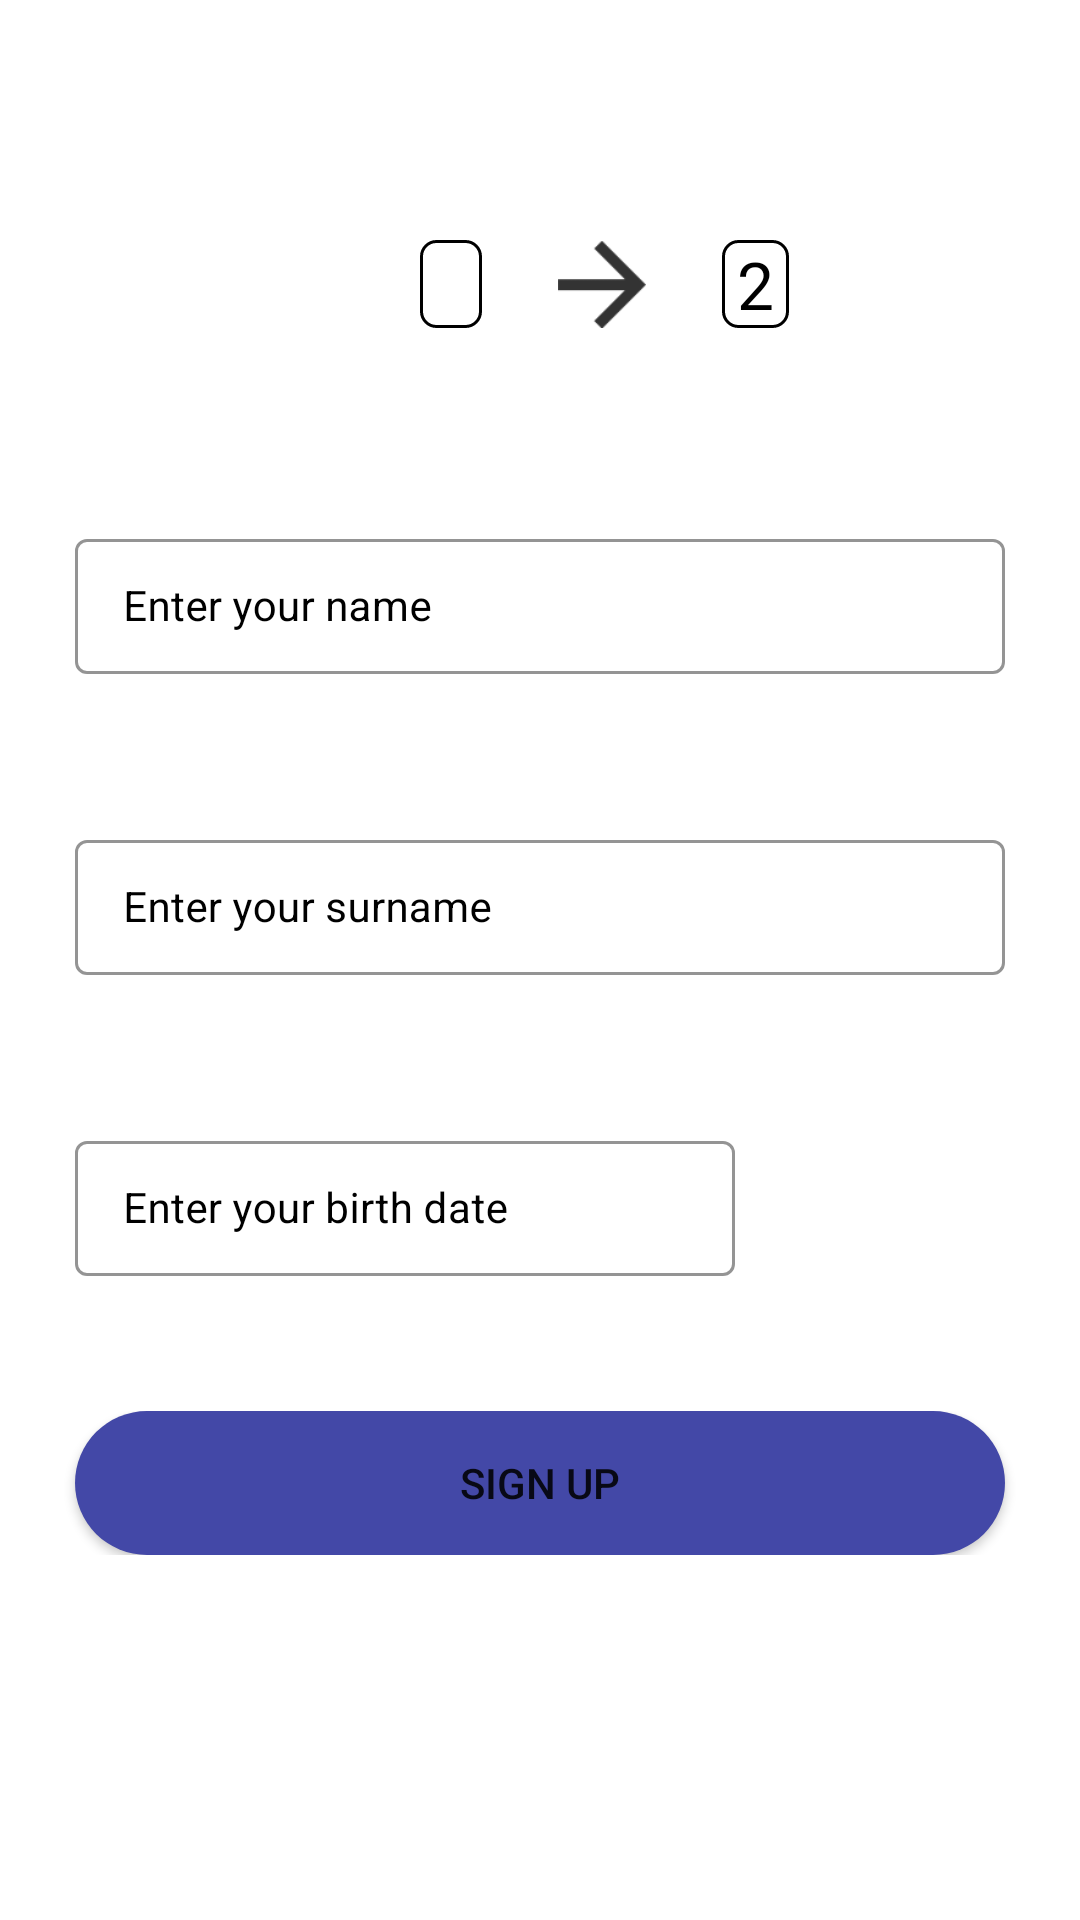

Where icons sit on this 1080px x 1920px app screen, as (x1, y1, x2, y2):
next: (558, 241, 646, 328)
